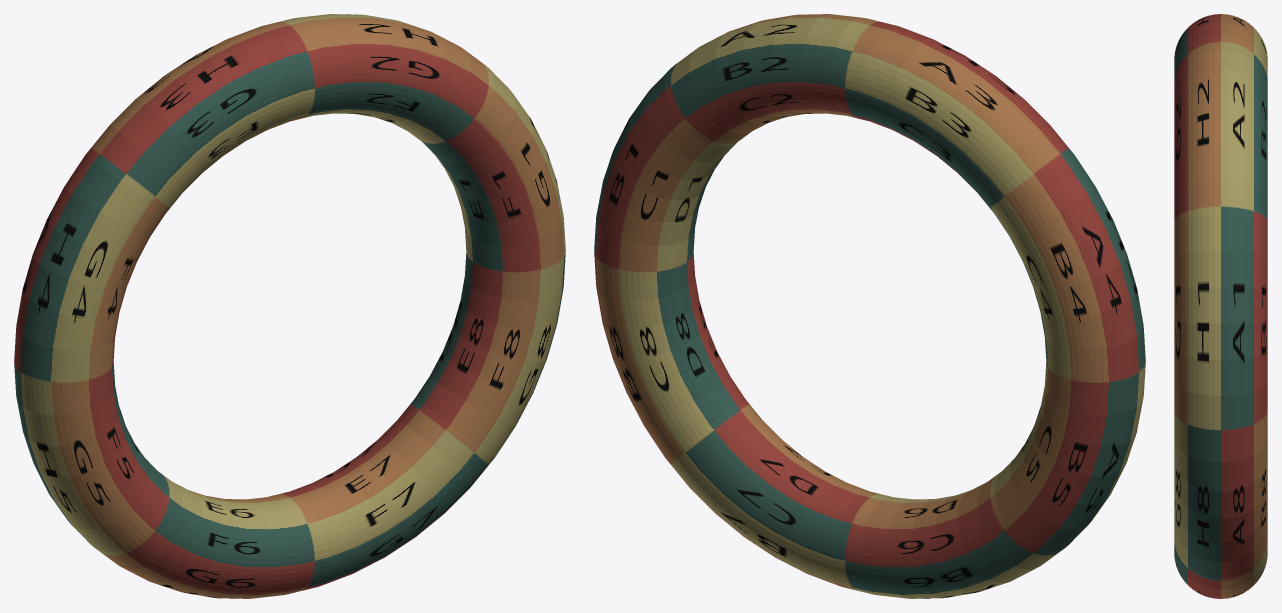
The model's file is texture_torus_R28_r13.glb.
3 renders of one model, left to right at view 1: azimuth 30°, elevation 25°; view 2: azimuth 150°, elevation 25°; view 3: azimuth 270°, elevation 25°, orthographic. The views are drawn at different scales.
Parts seen in each view (by area): view 1: world; view 2: world; view 3: world.
Part boxes in pixels (x1,y1,x2,y2): world: [14, 14, 565, 598]; world: [594, 14, 1145, 598]; world: [1174, 14, 1267, 598].
Bounding box in the file's own units: 34.13 × 34.07 × 5.46.
Materials: 1 (1 with a texture image).
